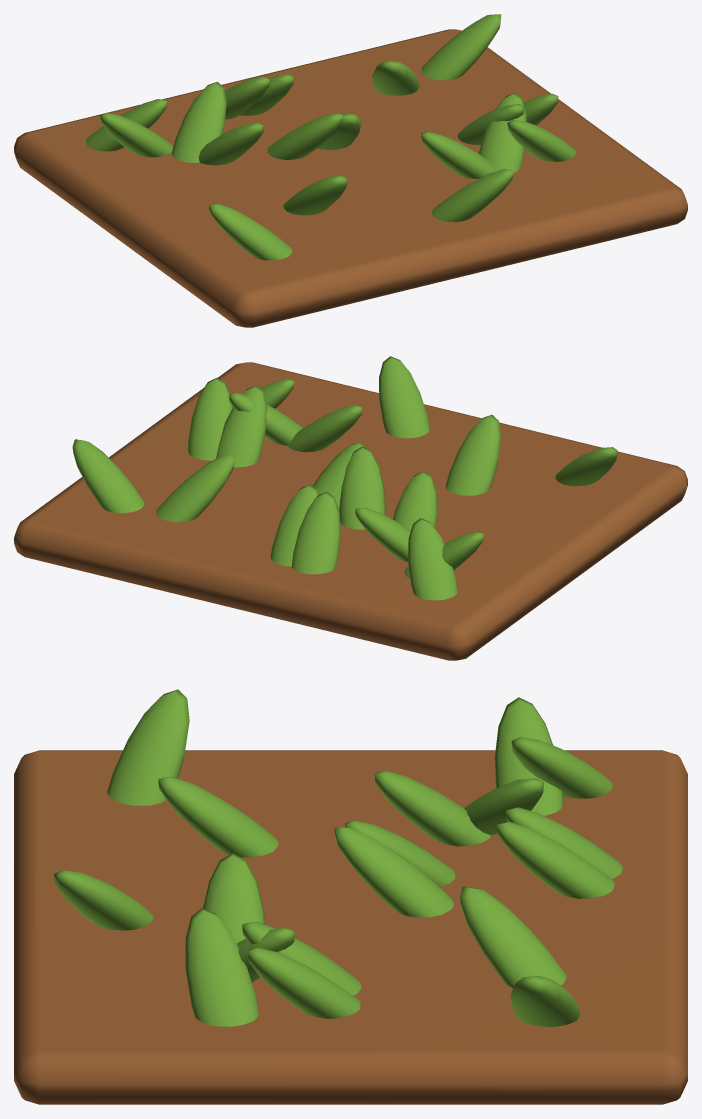
The model's file is BSC-19.glb.
3 views of the same model, one above another, from view 1: azimuth 30°, elevation 25°; view 2: azimuth 150°, elevation 25°; view 3: azimuth 270°, elevation 25° (orthographic). The views are drawn at different scales.
Parts seen in each view (by area): view 1: garden bed, leaf.013, leaf.002, leaf.003, leaf.001, leaf.006, leaf.004, leaf.015, leaf.016, leaf.017, leaf.008, leaf.009 (+7 smaller); view 2: garden bed, leaf.011, leaf.001, leaf.009, leaf.012, leaf.002, leaf.005, leaf.004, leaf.007, leaf.010, leaf.015, leaf.008 (+7 smaller); view 3: garden bed, leaf.017, leaf.003, leaf.005, leaf, leaf.009, leaf.014, leaf.008, leaf.010, leaf.016, leaf.001, leaf.012 (+7 smaller).
Boxes of the visible parts, x1,y1,x2,y2 form: garden bed: [14, 29, 687, 327]; leaf.013: [172, 81, 226, 162]; leaf.002: [421, 14, 501, 80]; leaf.003: [208, 203, 292, 260]; leaf.001: [431, 169, 513, 222]; leaf.006: [478, 92, 526, 172]; leaf.004: [267, 112, 342, 159]; leaf.015: [421, 131, 493, 178]; leaf.016: [100, 112, 172, 157]; leaf.017: [507, 120, 576, 161]; leaf.008: [198, 122, 264, 165]; leaf.009: [283, 175, 347, 215]; garden bed: [14, 362, 687, 660]; leaf.011: [291, 492, 340, 574]; leaf.001: [379, 356, 429, 438]; leaf.009: [445, 414, 500, 495]; leaf.012: [408, 518, 457, 600]; leaf.002: [72, 439, 144, 513]; leaf.005: [156, 454, 234, 522]; leaf.004: [339, 446, 385, 529]; leaf.007: [216, 385, 267, 467]; leaf.010: [188, 378, 232, 460]; leaf.015: [287, 405, 362, 452]; leaf.008: [393, 471, 437, 529]; garden bed: [14, 750, 687, 1104]; leaf.017: [185, 908, 258, 1026]; leaf.003: [107, 689, 189, 805]; leaf.005: [460, 886, 566, 987]; leaf: [334, 827, 453, 917]; leaf.009: [158, 776, 278, 857]; leaf.014: [496, 822, 614, 898]; leaf.008: [374, 770, 490, 846]; leaf.010: [247, 947, 360, 1018]; leaf.016: [494, 697, 563, 815]; leaf.001: [54, 870, 153, 930]; leaf.012: [511, 737, 612, 798].
Bounding box in the file's own units: 1.8 × 0.3269 × 1.6.
